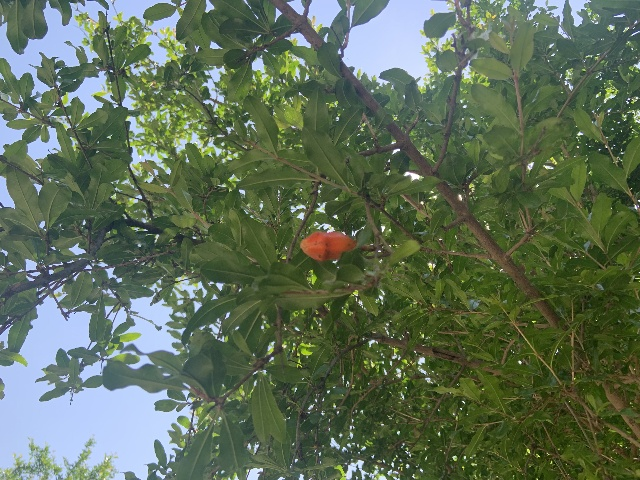bud: (300, 230, 356, 261)
